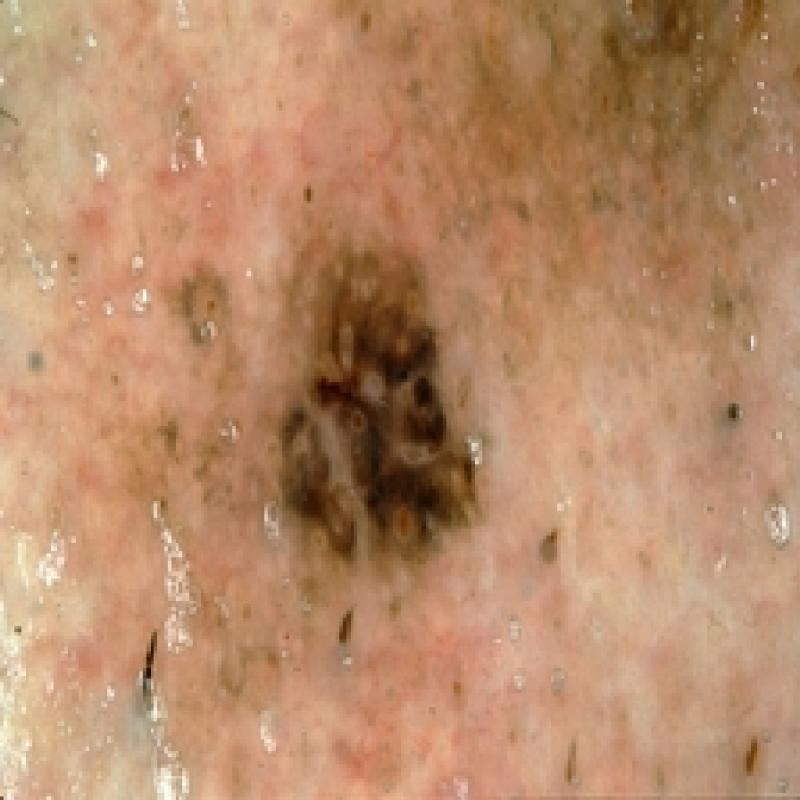malignant: (146, 189, 581, 606)
